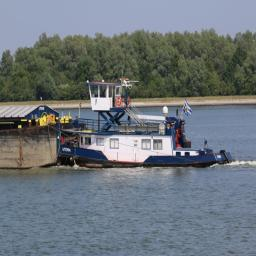tugboat: (54, 78, 240, 172)
